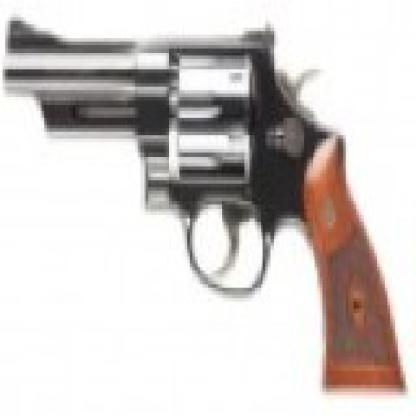pistol: (3, 10, 409, 398)
